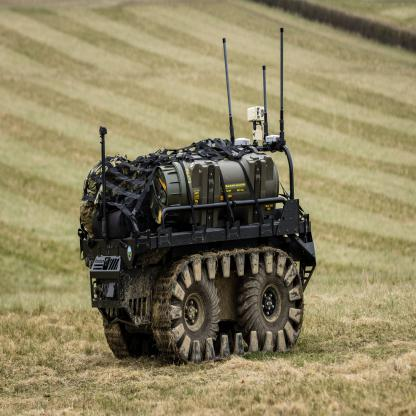UGV: (80, 25, 317, 366)
